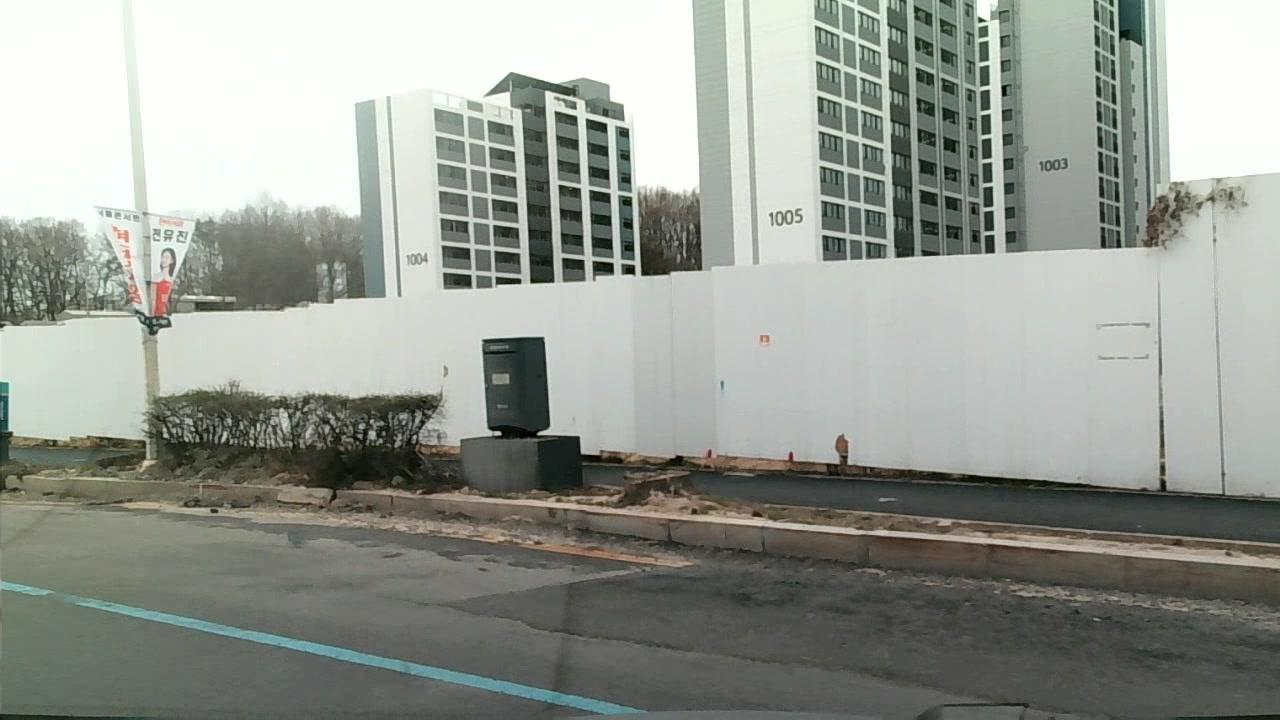hcrack: (820, 657, 942, 686), (558, 629, 663, 653), (694, 645, 793, 666), (480, 612, 538, 631)
stone: (274, 486, 333, 509)
